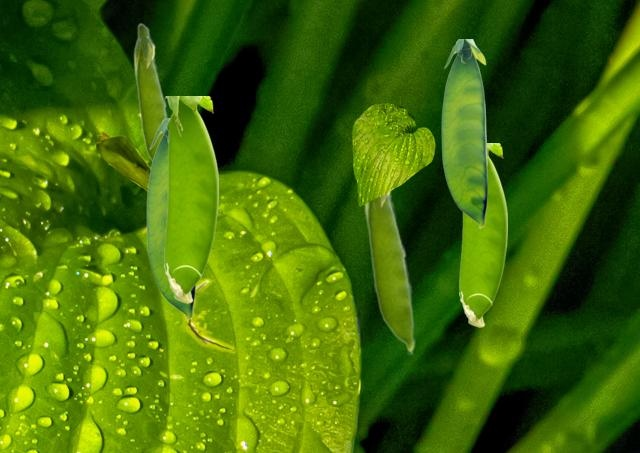pea: (164, 96, 217, 302), (146, 118, 194, 319), (459, 143, 506, 326), (363, 190, 415, 354), (441, 39, 486, 227), (133, 22, 168, 161)
